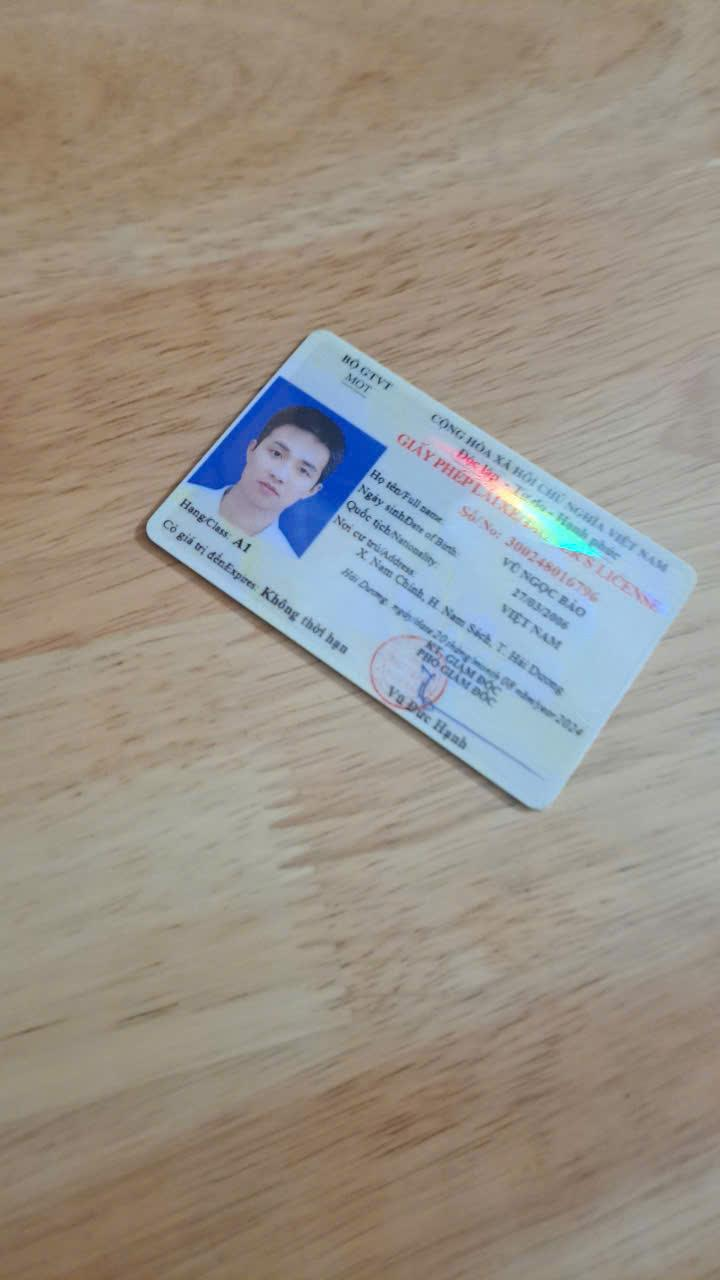gplx: (126, 321, 705, 828)
